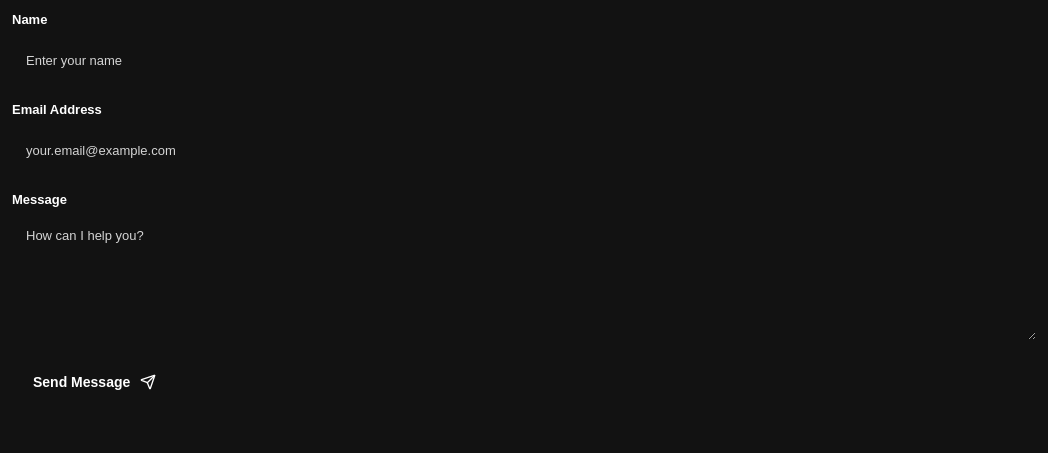
ContactForm › prevents duplicate submissions while pending and clears the form after acceptance
Type "Casey Visitor" into the field labelled "Name" at (524,60), box [12,36,1036,84]
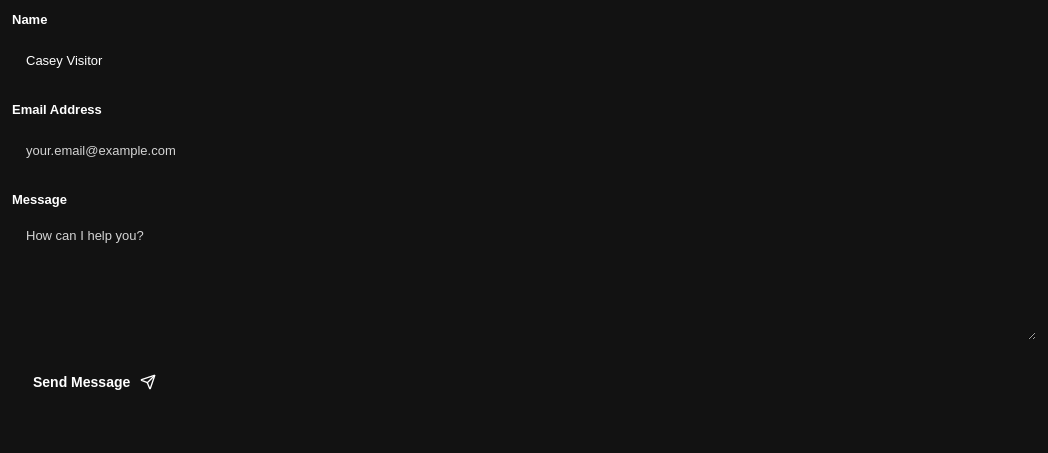
Type "casey@example.test" into the field labelled "Email Address" at (524,150), box [12,126,1036,174]
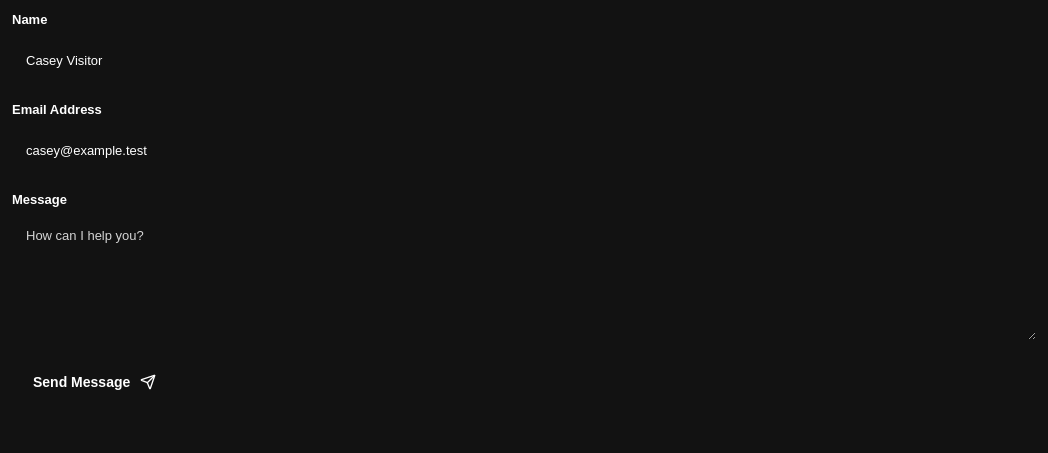
Type "I'd like to discuss a project." into the text box labelled "Message" at (524,278), box [12,216,1036,340]
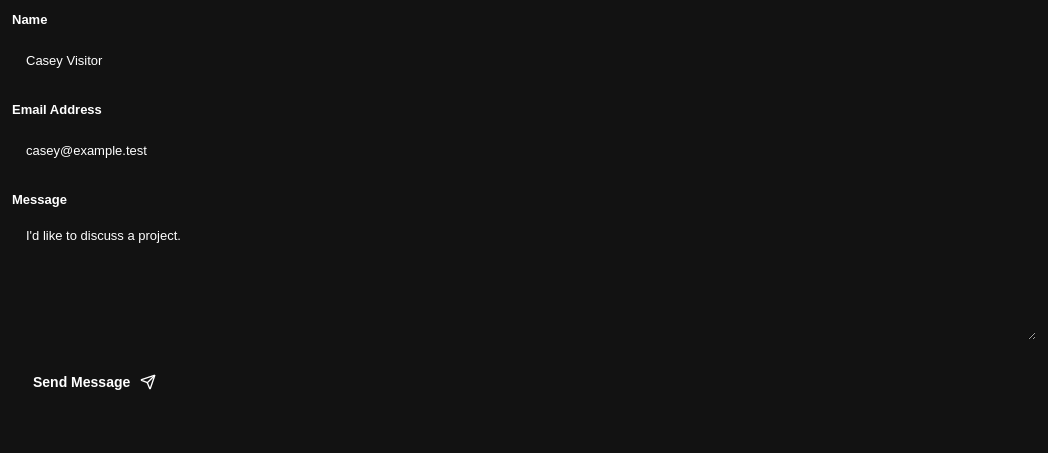
Submit the form
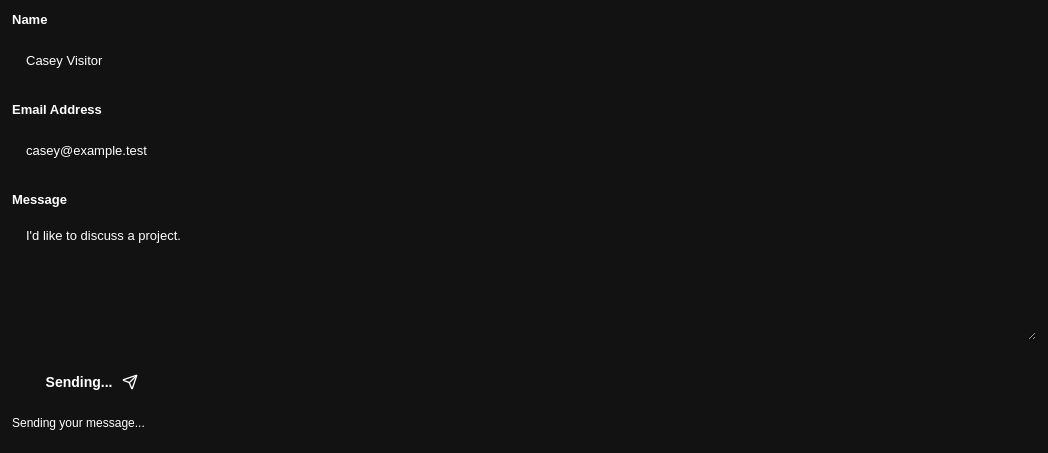
Check: the button "Sending..." is disabled, box [12,358,172,406]
Submit the form
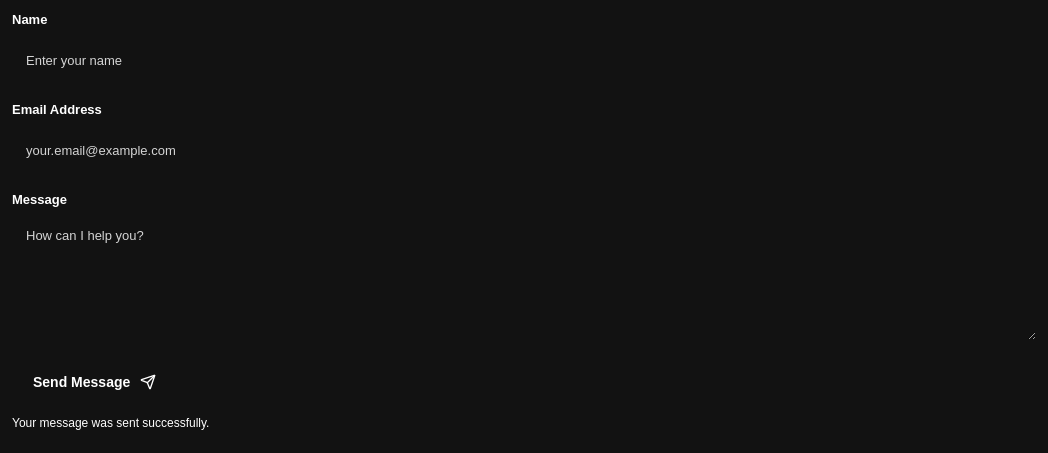
Check: the message shows "sent successfully", box [12,416,209,430]
Check: the field labelled "Name" is empty, box [12,36,1036,84]
Check: the button "Send Message" is enabled, box [12,358,177,406]
